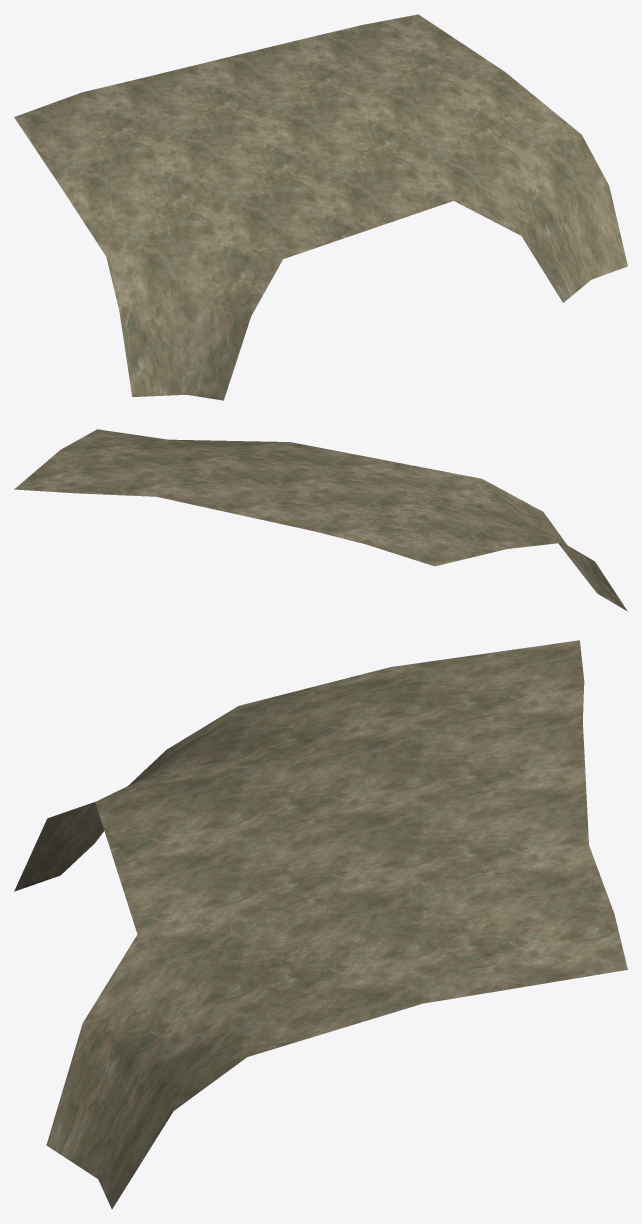
The model's file is OVERHILL_A_01_OBJECT161.fbx.
3 views of the same model, one above another, from view 1: azimuth 30°, elevation 25°; view 2: azimuth 150°, elevation 25°; view 3: azimuth 270°, elevation 25° (orthographic). The views are drawn at different scales.
Parts seen in each view (by area): view 1: OVERHILL_A_01_OBJECT161; view 2: OVERHILL_A_01_OBJECT161; view 3: OVERHILL_A_01_OBJECT161.
Boxes of the visible parts, x1,y1,x2,y2 form: OVERHILL_A_01_OBJECT161: (14, 14, 627, 400); OVERHILL_A_01_OBJECT161: (14, 429, 627, 611); OVERHILL_A_01_OBJECT161: (14, 640, 627, 1209).
Bounding box in the file's own units: 345889 × 105351 × 240065.
Materials: 2 (2 with a texture image).
